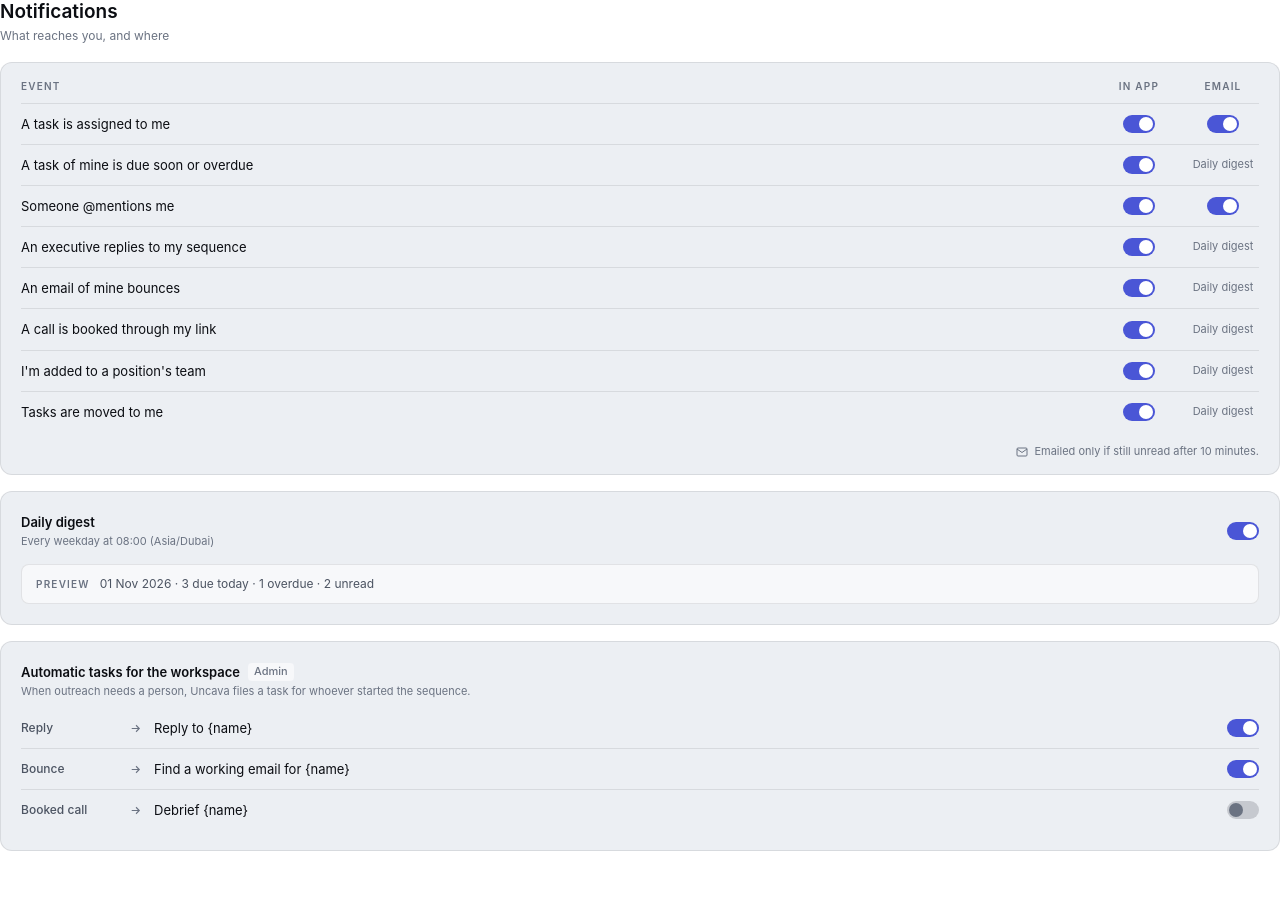
SettingsNotificationsPage › saves a switch the moment it is flipped
Click the switch named "Someone @mentions me, by email" at (1223, 206), box top-left (1207, 197), bottom-right (1239, 215)
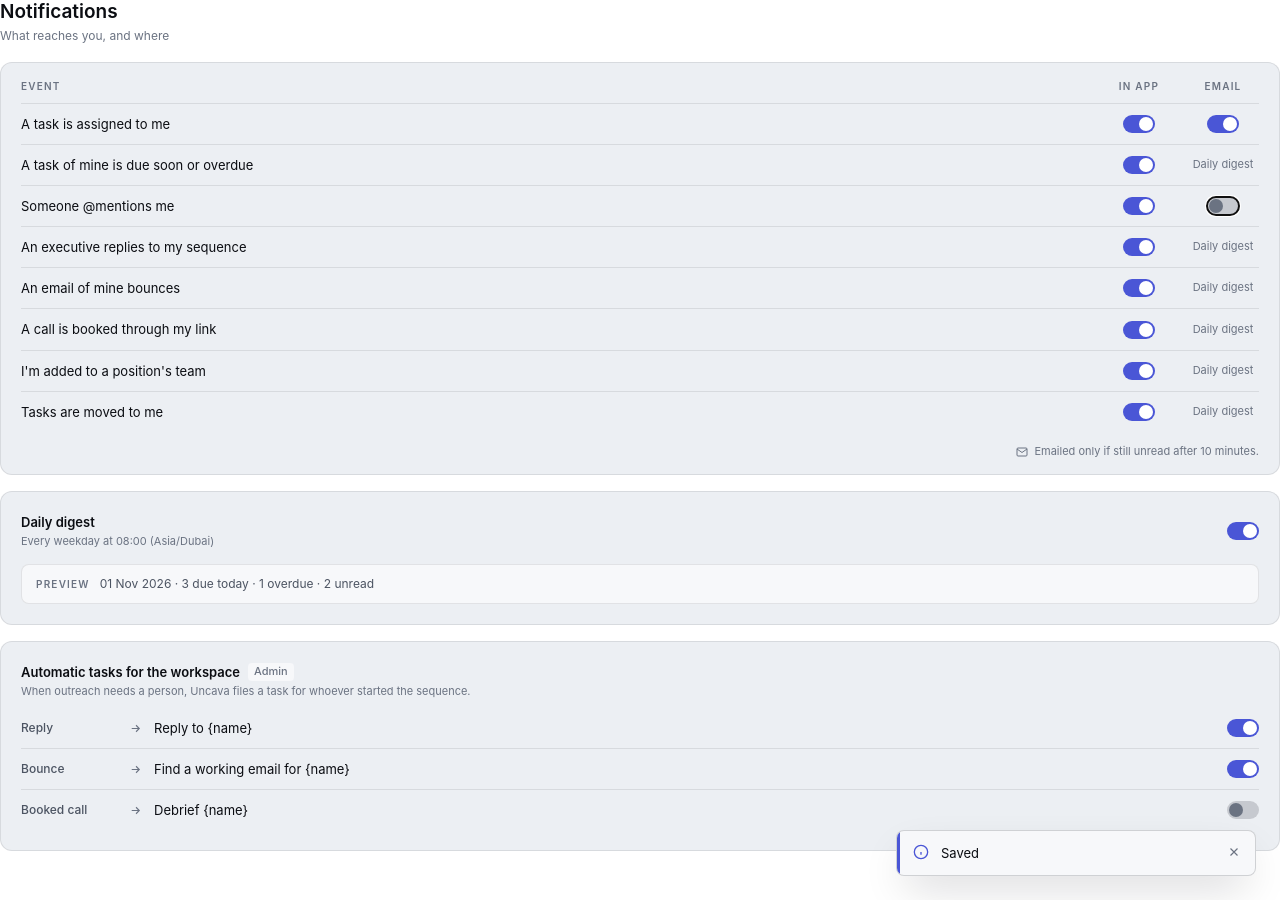
expect the text "Saved" is shown: met, box top-left (941, 845), bottom-right (979, 861)
